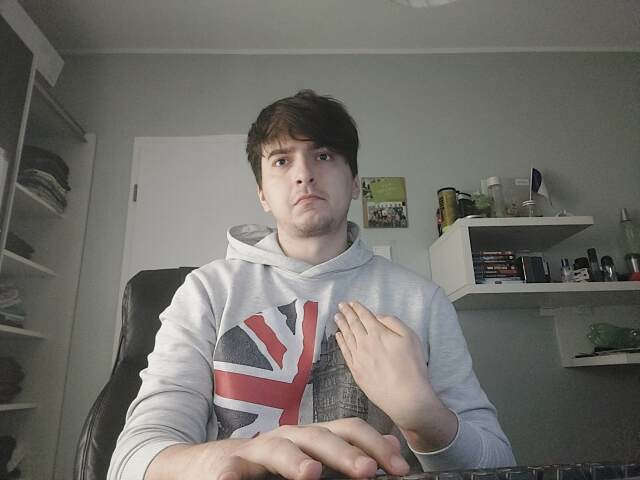please: (331, 299, 426, 406)
